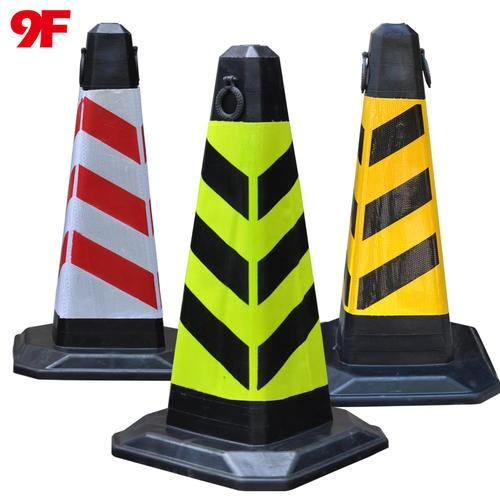cone_barrel: (144, 47, 354, 477), (318, 32, 477, 393), (26, 23, 180, 363)
